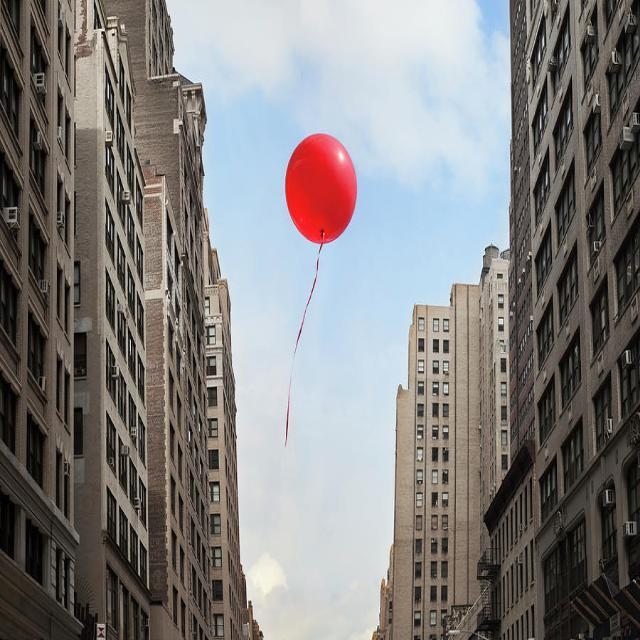balloon: (282, 124, 367, 258)
